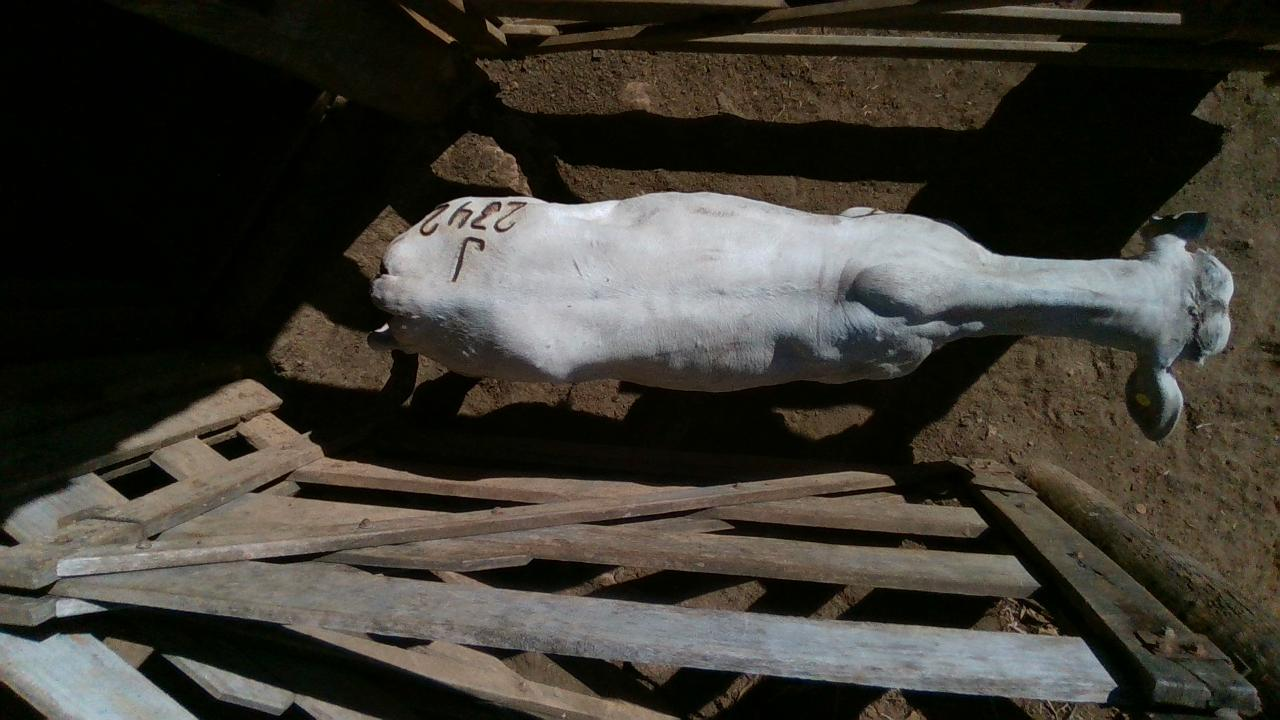cattle: (365, 188, 1235, 441)
